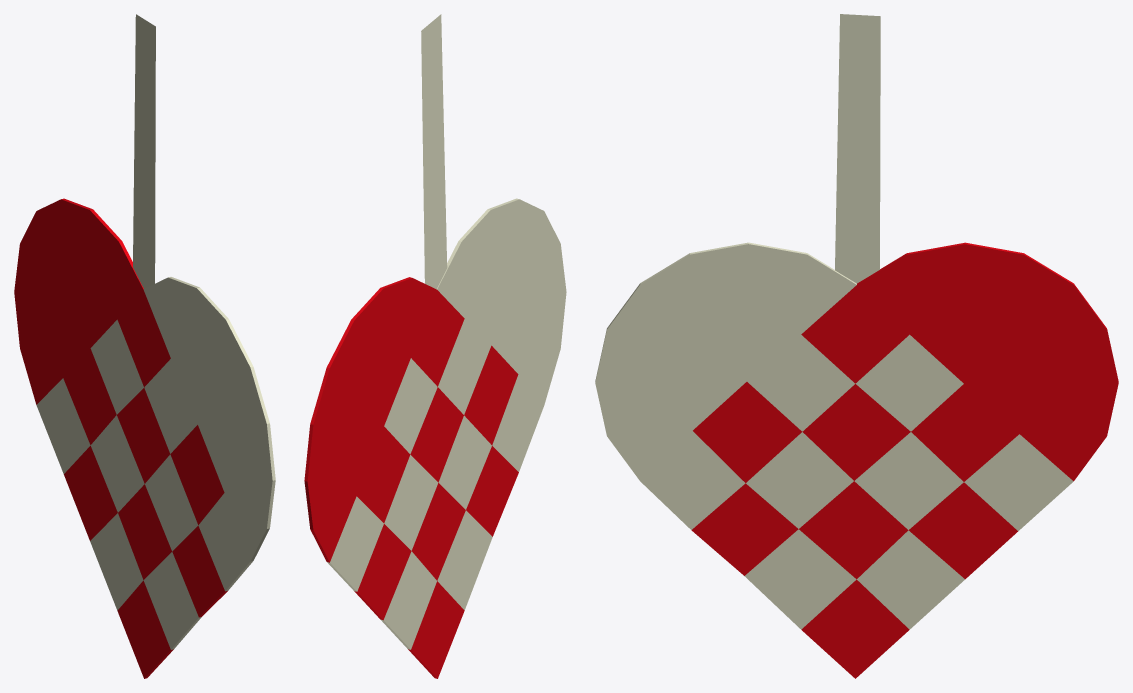
The model's file is heart.glb.
The picture shows the model from 3 angles, left to right: view 1: azimuth 30°, elevation 25°; view 2: azimuth 150°, elevation 25°; view 3: azimuth 270°, elevation 25°; orthographic projection.
Visible parts, largest first — view 1: heart; view 2: heart; view 3: heart.
Boxes of the visible parts, bbox=[...] form: heart: bbox=[14, 14, 275, 678]; heart: bbox=[304, 14, 566, 678]; heart: bbox=[595, 14, 1118, 678].
Bounding box in the file's own units: 0.00127 × 0.1915 × 0.1365.
